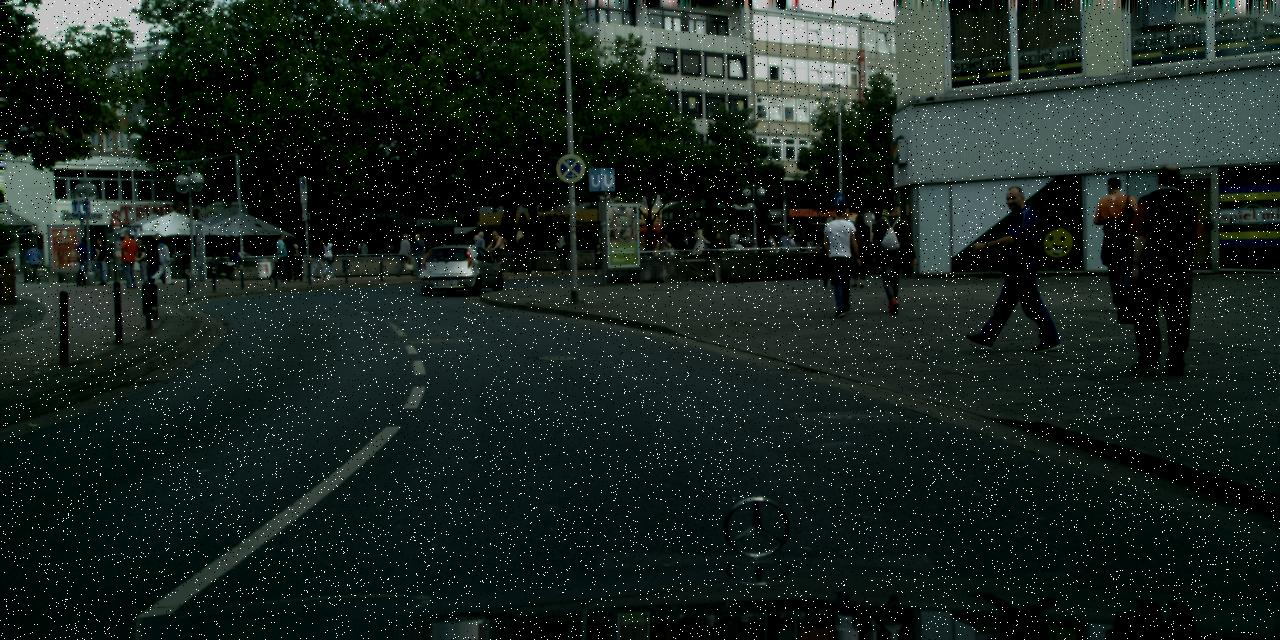ped: (1122, 163, 1206, 370), (980, 185, 1047, 348), (1088, 175, 1143, 309), (820, 202, 866, 316), (871, 201, 916, 313), (814, 216, 844, 287), (844, 214, 873, 286), (116, 230, 140, 288), (148, 232, 168, 283), (272, 233, 292, 281), (151, 235, 171, 282), (78, 238, 98, 284), (74, 236, 93, 284), (133, 238, 152, 284), (92, 238, 110, 284), (284, 236, 302, 282), (512, 230, 530, 274), (408, 232, 426, 274), (318, 237, 336, 279), (397, 233, 414, 275), (26, 242, 42, 282), (312, 237, 328, 277), (472, 231, 487, 267), (488, 230, 502, 266), (555, 235, 569, 269), (634, 231, 648, 265), (471, 233, 484, 266), (694, 228, 707, 261), (778, 230, 791, 262), (355, 237, 367, 268), (709, 231, 721, 261), (689, 230, 700, 260), (659, 235, 670, 264), (728, 228, 738, 258), (784, 233, 795, 260), (758, 234, 769, 261), (796, 231, 806, 257), (744, 232, 754, 255), (738, 233, 748, 256), (767, 234, 775, 255)
